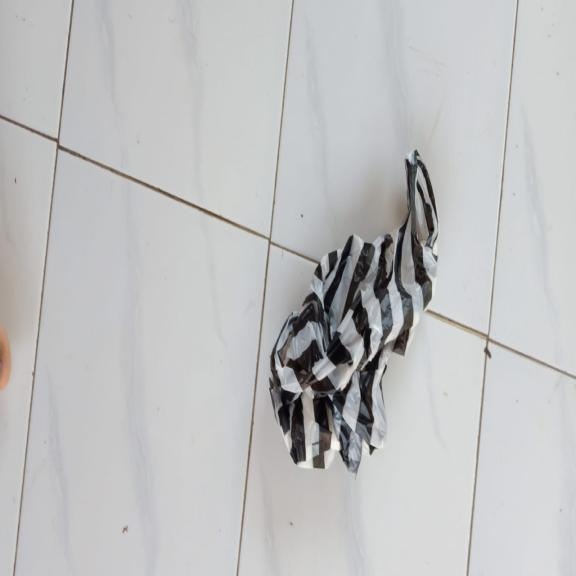Plastik: (268, 146, 440, 482)
